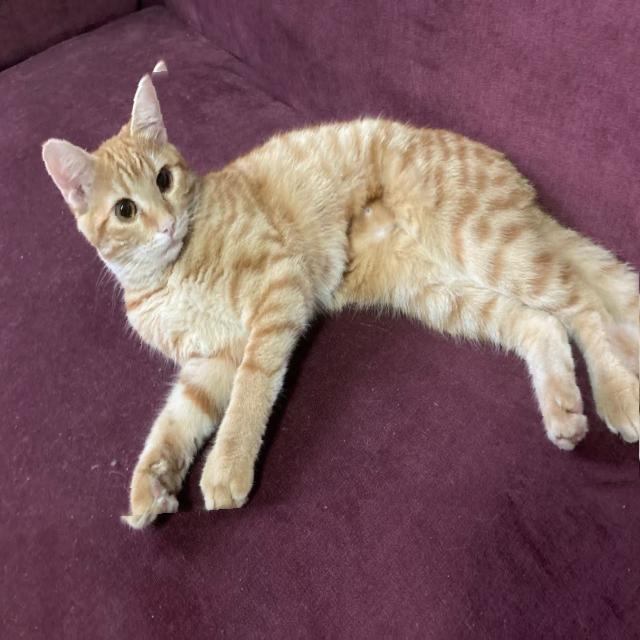red_cat: (32, 49, 640, 510)
